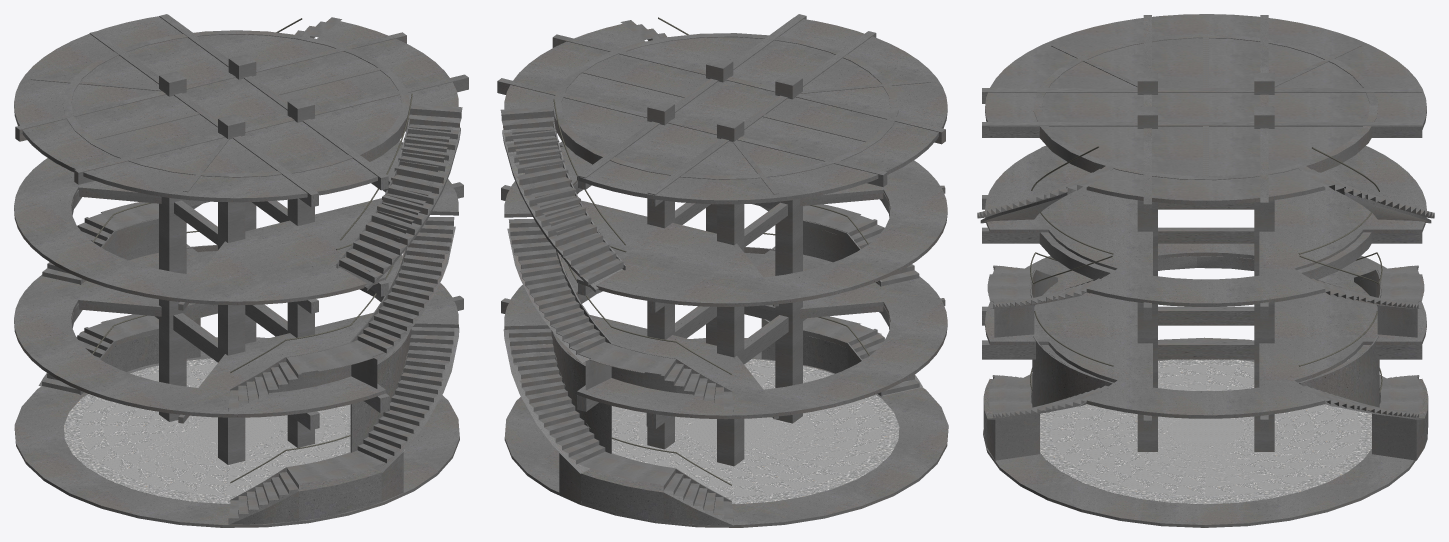
Rendered from riverie.glb.
3 views of the same model, side by side, from view 1: azimuth 30°, elevation 25°; view 2: azimuth 150°, elevation 25°; view 3: azimuth 270°, elevation 25° (orthographic).
Visible parts, largest first — view 1: floorL1 light, main structure, stairs, floorL1 dark, stairs.001, Cylinder, STAIRS.003, handles; view 2: floorL1 light, main structure, stairs, floorL1 dark, stairs.001, Cylinder, STAIRS.003, handles; view 3: floorL1 light, main structure, floorL1 dark, stairs, Cylinder, stairs.001, handles.
Part boxes in pixels (<box>): floorL1 light: <box>14,15,459,527</box>; main structure: <box>15,14,468,524</box>; stairs: <box>42,202,454,521</box>; floorL1 dark: <box>79,363,350,495</box>; stairs.001: <box>295,17,462,282</box>; Cylinder: <box>64,358,404,504</box>; STAIRS.003: <box>298,27,451,271</box>; handles: <box>92,18,412,483</box>; floorL1 light: <box>504,17,948,527</box>; main structure: <box>497,14,945,525</box>; stairs: <box>508,204,919,520</box>; floorL1 dark: <box>612,365,881,496</box>; stairs.001: <box>500,20,667,285</box>; Cylinder: <box>685,359,899,504</box>; STAIRS.003: <box>511,30,664,273</box>; handles: <box>553,17,869,485</box>; floorL1 light: <box>983,14,1426,527</box>; main structure: <box>980,15,1431,460</box>; floorL1 dark: <box>1050,364,1361,496</box>; stairs: <box>987,265,1424,417</box>; Cylinder: <box>1040,359,1371,504</box>; stairs.001: <box>977,165,1434,218</box>; handles: <box>1030,146,1382,393</box>.
Bounding box in the file's own units: 0.131 × 0.1109 × 0.1324.
6 materials, 5 textured.
